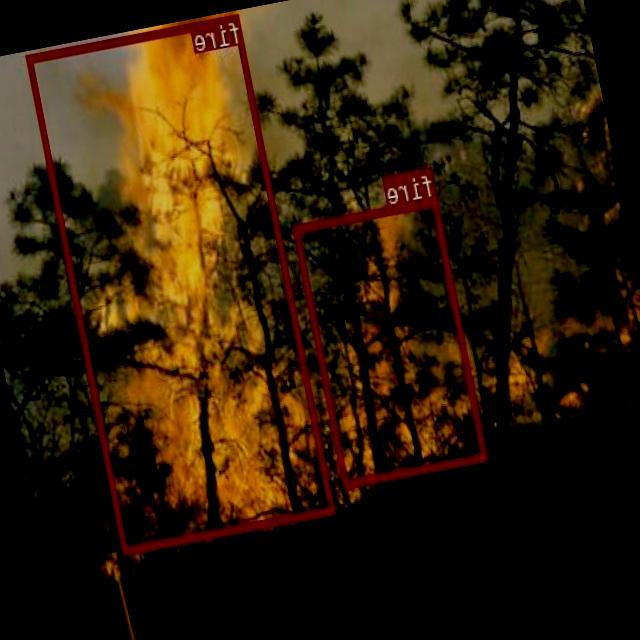fire: (28, 11, 337, 554), (294, 196, 488, 487)
